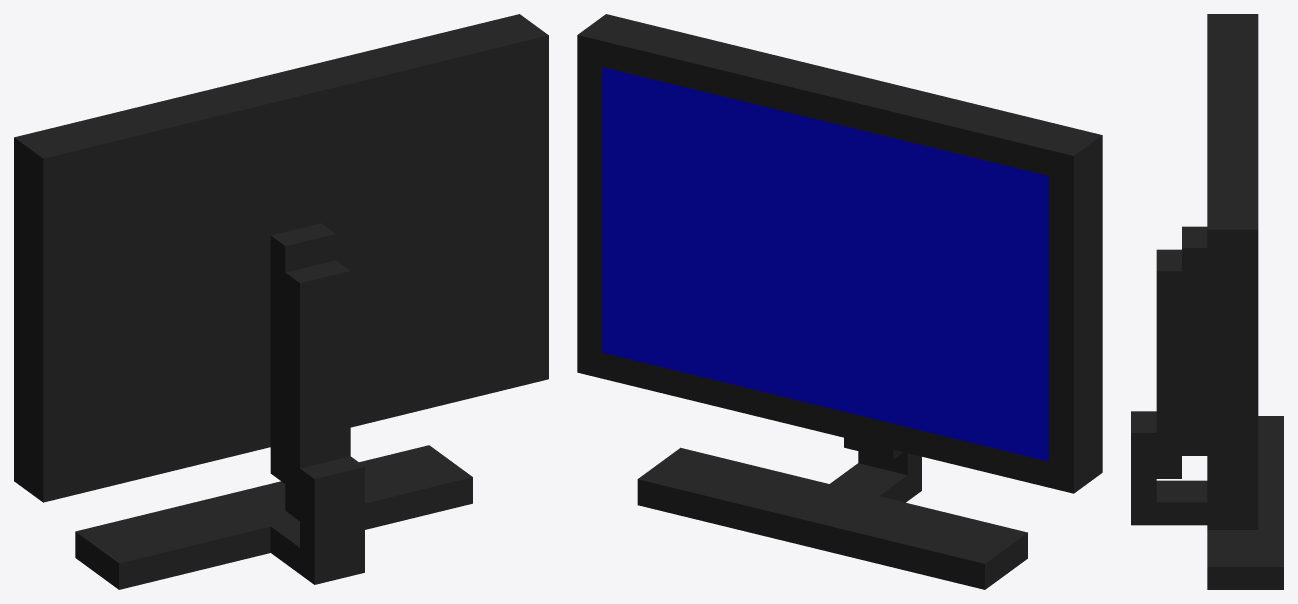
File: computer_screen.glb
The picture shows the model from 3 angles, left to right: view 1: azimuth 30°, elevation 25°; view 2: azimuth 150°, elevation 25°; view 3: azimuth 270°, elevation 25°; orthographic projection. The views are drawn at different scales.
Visible parts, largest first — view 1: Untitled.001; view 2: Untitled, Untitled.001; view 3: Untitled.001.
Boxes of the visible parts, x1,y1,x2,y2 form: Untitled.001: (14, 14, 548, 589); Untitled: (602, 67, 1048, 461); Untitled.001: (577, 14, 1102, 589); Untitled.001: (1131, 14, 1283, 589).
Size of the model in its own units: 0.6 by 0.51 by 0.18.
Materials: 2 (2 with a texture image).
